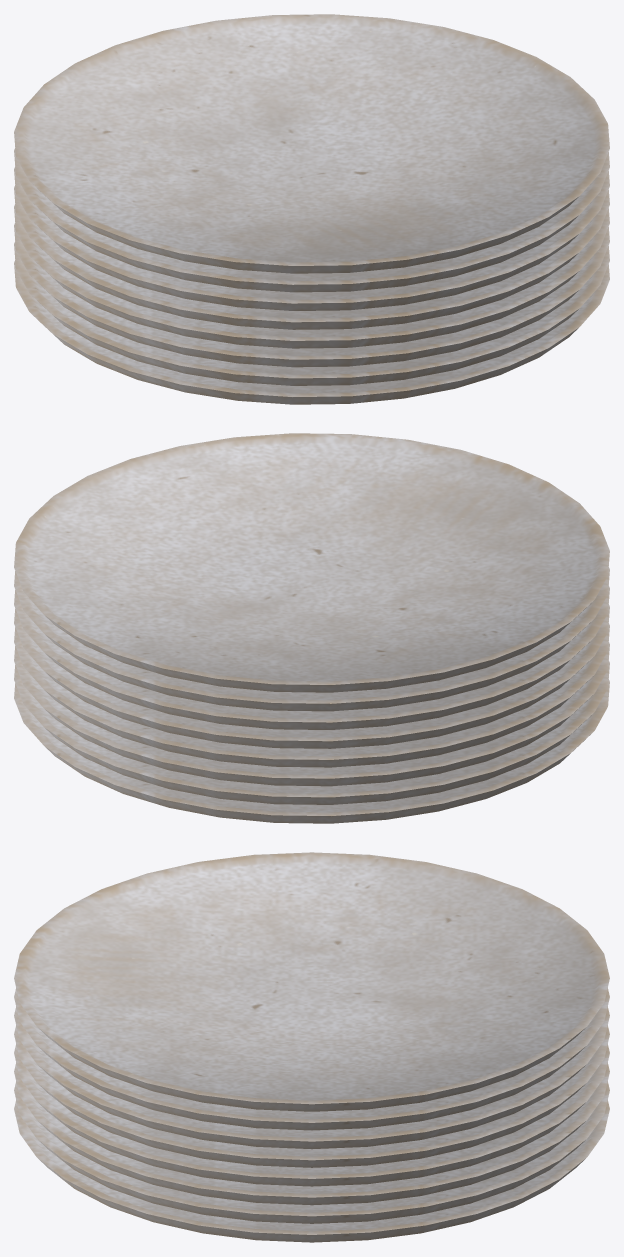
The model's file is PlateStack.fbx.
3 renders of one model, top to bottom at view 1: azimuth 30°, elevation 25°; view 2: azimuth 150°, elevation 25°; view 3: azimuth 270°, elevation 25°, orthographic.
Visible parts, largest first — view 1: Plate; view 2: Plate; view 3: Plate.
Boxes of the visible parts, bbox=[...] form: Plate: bbox=[14, 14, 609, 404]; Plate: bbox=[14, 433, 609, 823]; Plate: bbox=[14, 852, 609, 1242].
Size of the model in its own units: 24.34 by 7.09 by 24.34.
